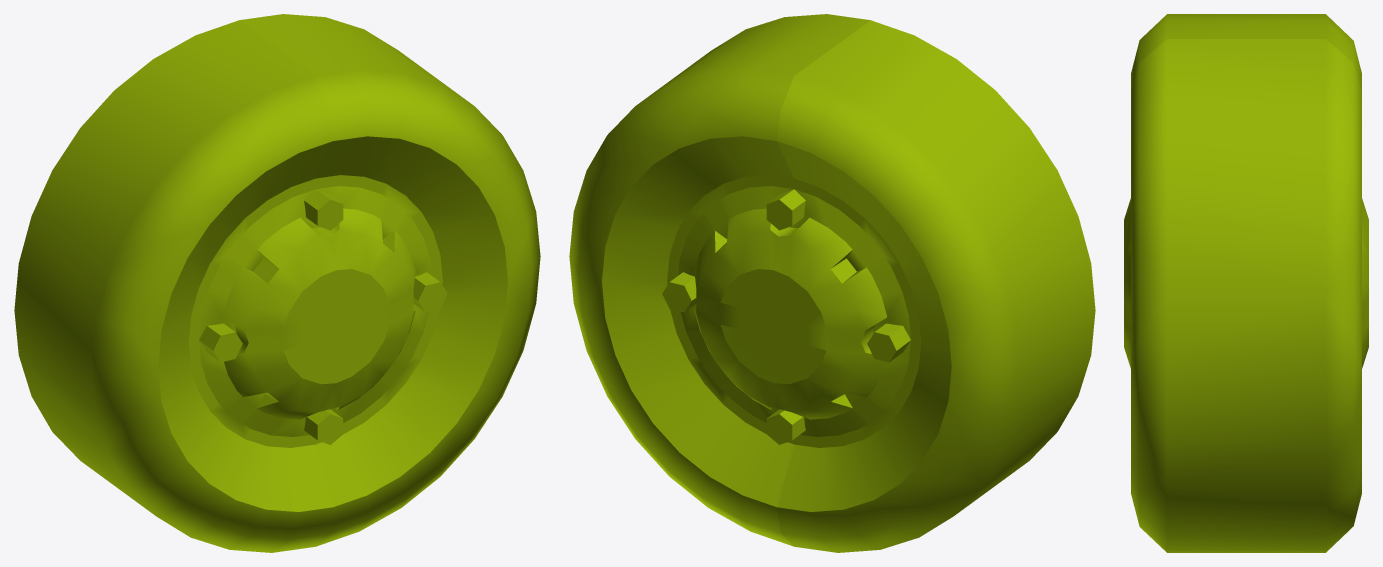
The model's file is obj_vehicle_gripwheel_9x_lod1.fbx.
The picture shows the model from 3 angles, left to right: view 1: azimuth 30°, elevation 25°; view 2: azimuth 150°, elevation 25°; view 3: azimuth 270°, elevation 25°; orthographic projection. The views are drawn at different scales.
Parts seen in each view (by area): view 1: gripwheel_9x_lod1.001; view 2: gripwheel_9x_lod1.001; view 3: gripwheel_9x_lod1.001.
Part boxes in pixels (<box>): gripwheel_9x_lod1.001: <box>14,14,540,552</box>; gripwheel_9x_lod1.001: <box>569,14,1095,552</box>; gripwheel_9x_lod1.001: <box>1124,14,1368,552</box>.
Size of the model in its own units: 7 by 7 by 3.18.
